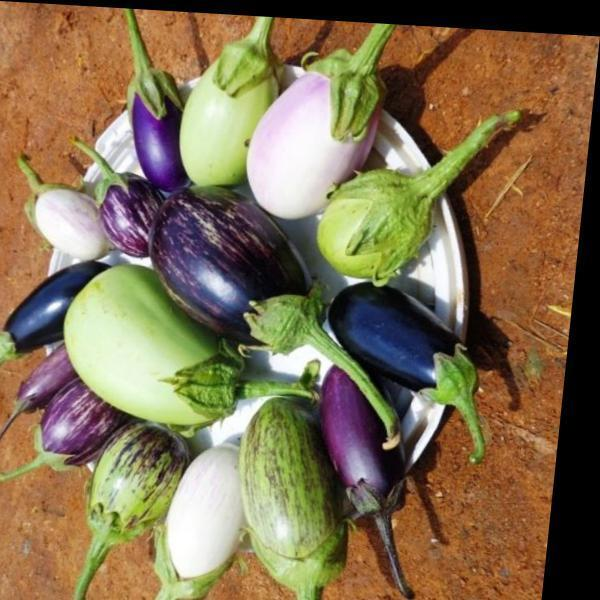eggplant: (92, 100, 456, 542), (134, 169, 362, 366), (68, 254, 294, 435), (320, 129, 523, 279), (334, 266, 532, 415), (242, 400, 370, 599), (255, 13, 360, 215), (169, 10, 272, 182), (166, 443, 257, 599)
